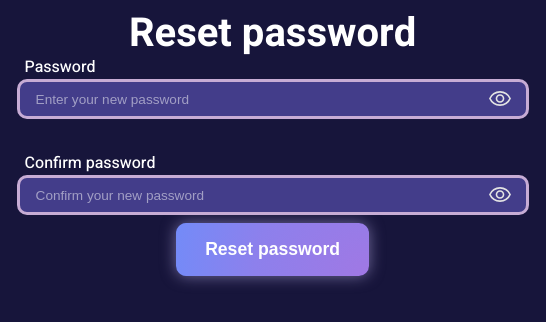
Scenario: ResetPasswordFormLogged › validates password mismatch (client-side)
The image size is (546, 322).
Expected: the form with id "resetPassword" is shown, [17, 47, 529, 223]
// Enter two different passwords
In the password field with placeholder "Enter your new password": [273, 99] box [17, 79, 529, 119], type "Password1"
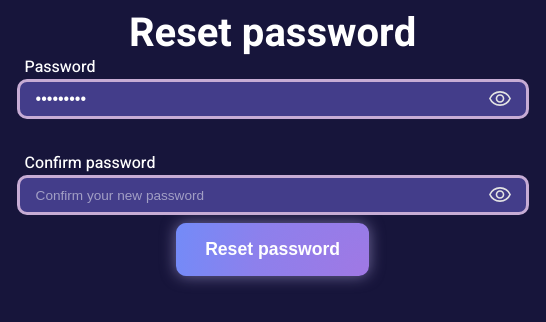
In the password field with placeholder "Confirm your new password": [273, 195] box [17, 175, 529, 215], type "Different1"
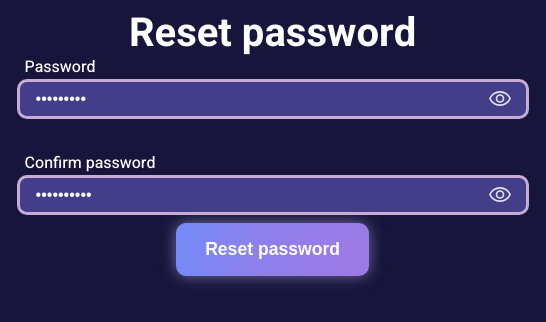
Submit the form with id "resetPassword", box [17, 47, 529, 223]
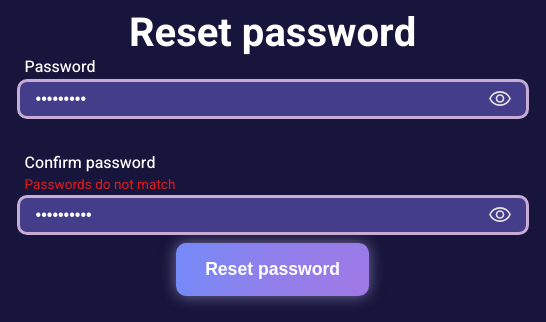
Expected: the message reads "Passwords do not match", [25, 175, 176, 195]
